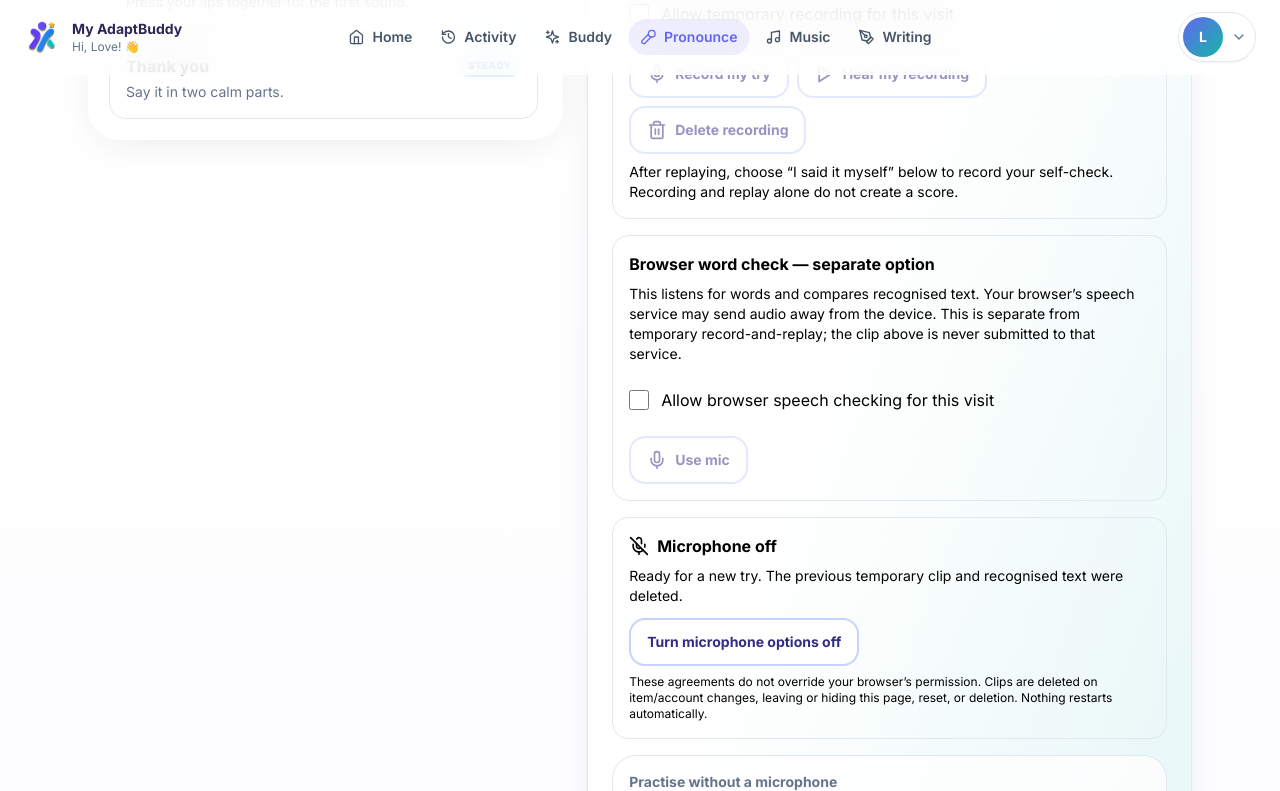
Scenario: Pronunciation Buddy privacy and routed completion › stores no browser-recognised words in registered practice history
(page scrolled)
Click the checkbox labelled "Allow browser speech checking for this visit" at (639, 400), box [629, 390, 649, 410]
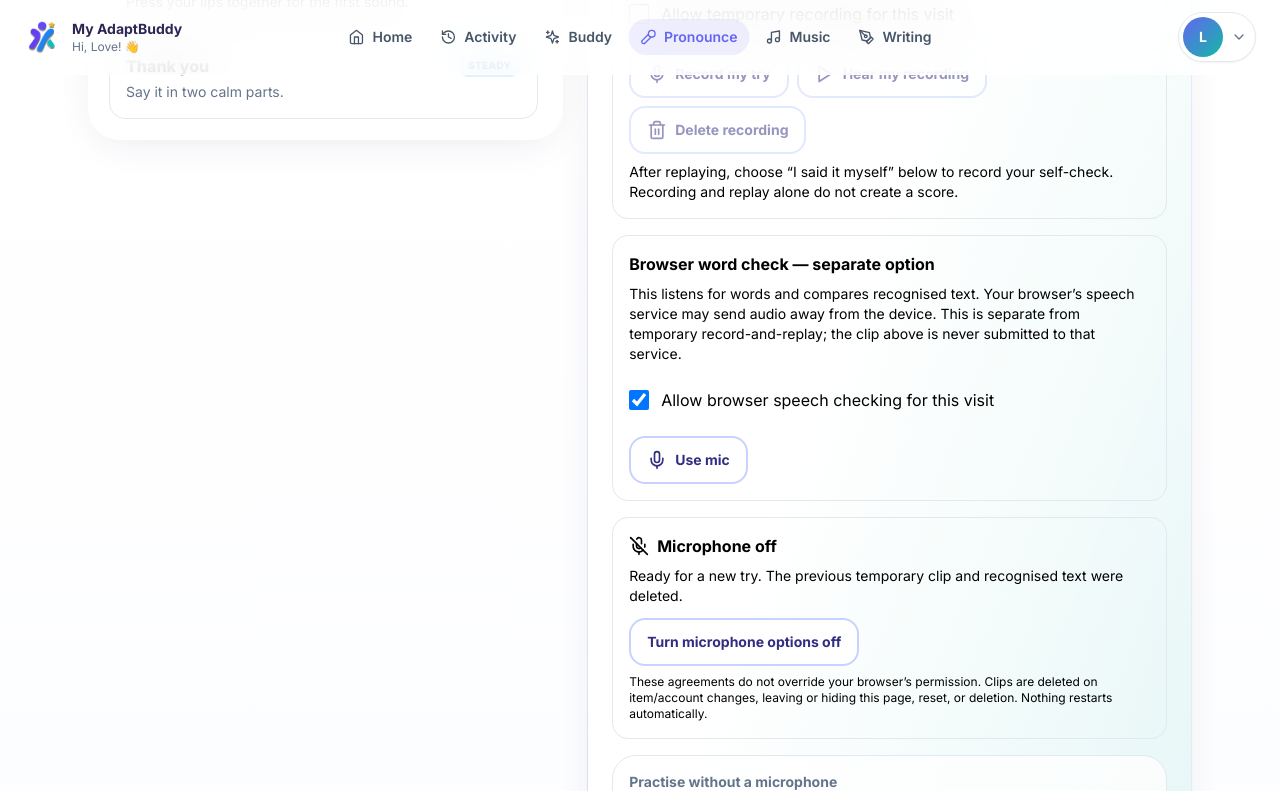
Click the button "Use mic" at (688, 460), box [629, 436, 748, 484]
(page scrolled)
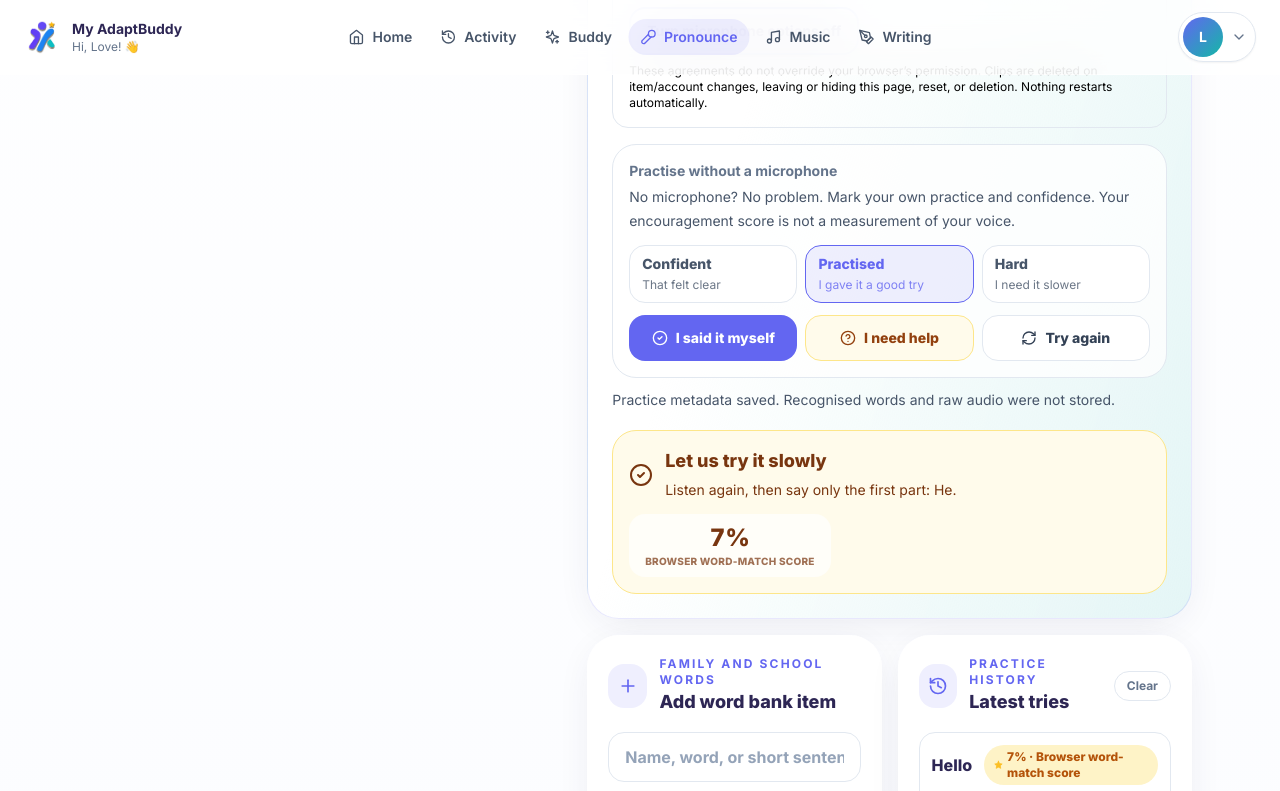
Expected: the text "Practice metadata saved. Recognised words and raw audio were not stored." is shown, [612, 390, 1167, 410]
